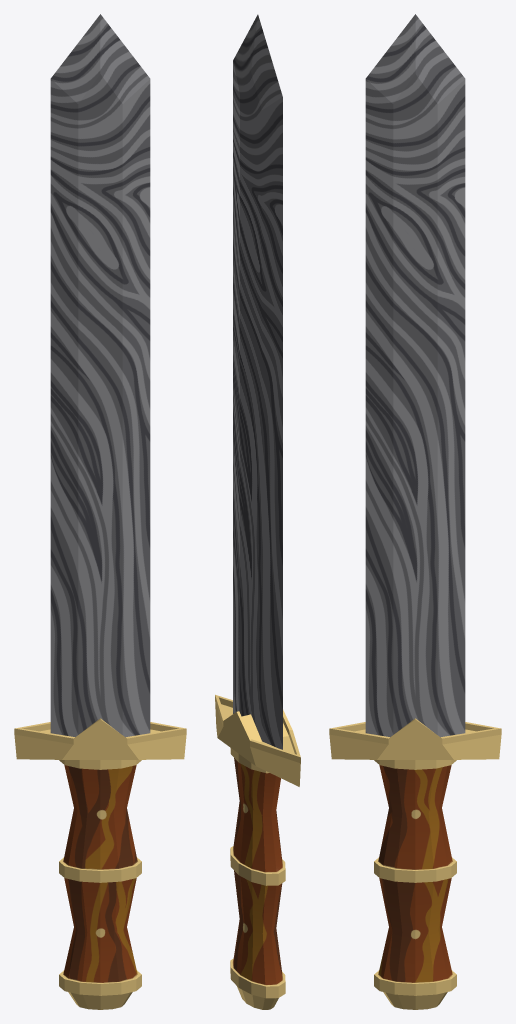
File: Damascus_Sword.fbx
The picture shows the model from 3 angles, left to right: view 1: azimuth 90°, elevation 25°; view 2: azimuth 210°, elevation 25°; view 3: azimuth 270°, elevation 25°; orthographic projection.
Visible parts, largest first — view 1: Damascus_Sword; view 2: Damascus_Sword; view 3: Damascus_Sword.
Boxes of the visible parts, bbox=[...] form: Damascus_Sword: bbox=[14, 14, 186, 1009]; Damascus_Sword: bbox=[215, 14, 300, 1009]; Damascus_Sword: bbox=[329, 14, 501, 1009].
Size of the model in its own units: 0.0533 by 1.17 by 0.1849.
